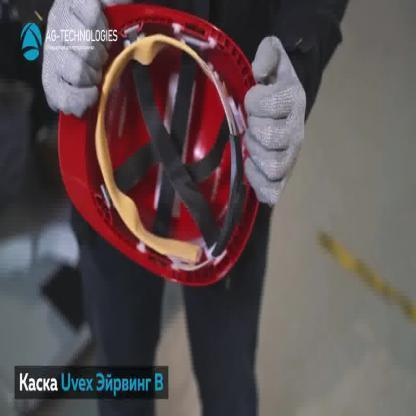gloves: (242, 33, 306, 210), (41, 0, 115, 119)
helmet: (56, 0, 262, 289)
